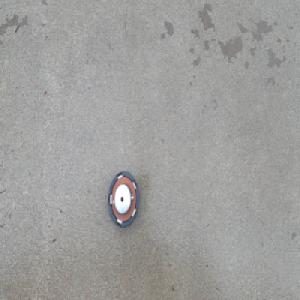FuelCap: (106, 168, 139, 230)
